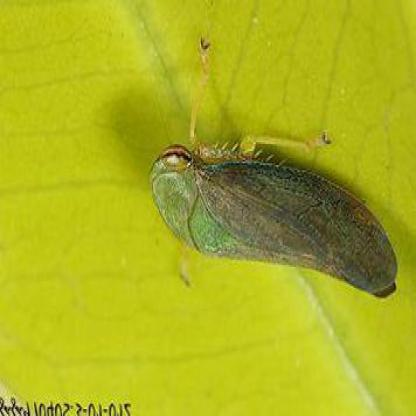green-leafhopper: (150, 135, 398, 297)
